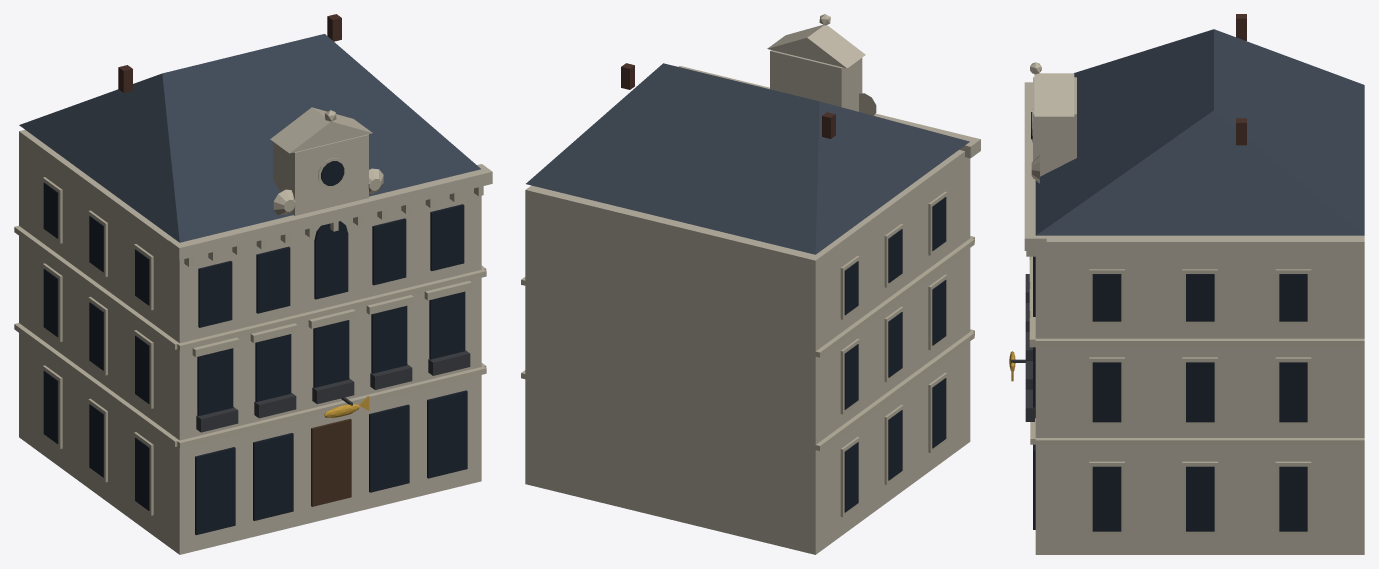
Rendered from zalm.glb.
The picture shows the model from 3 angles, left to right: view 1: azimuth 30°, elevation 25°; view 2: azimuth 150°, elevation 25°; view 3: azimuth 270°, elevation 25°; orthographic projection. The views are drawn at different scales.
Parts seen in each view (by area): view 1: Zalm; view 2: Zalm; view 3: Zalm.
Part boxes in pixels (x1,y1,x2,y2): Zalm: [14, 14, 492, 554]; Zalm: [521, 14, 980, 554]; Zalm: [1009, 14, 1364, 554].
Size of the model in its own units: 13.5 by 16.8 by 12.97.
